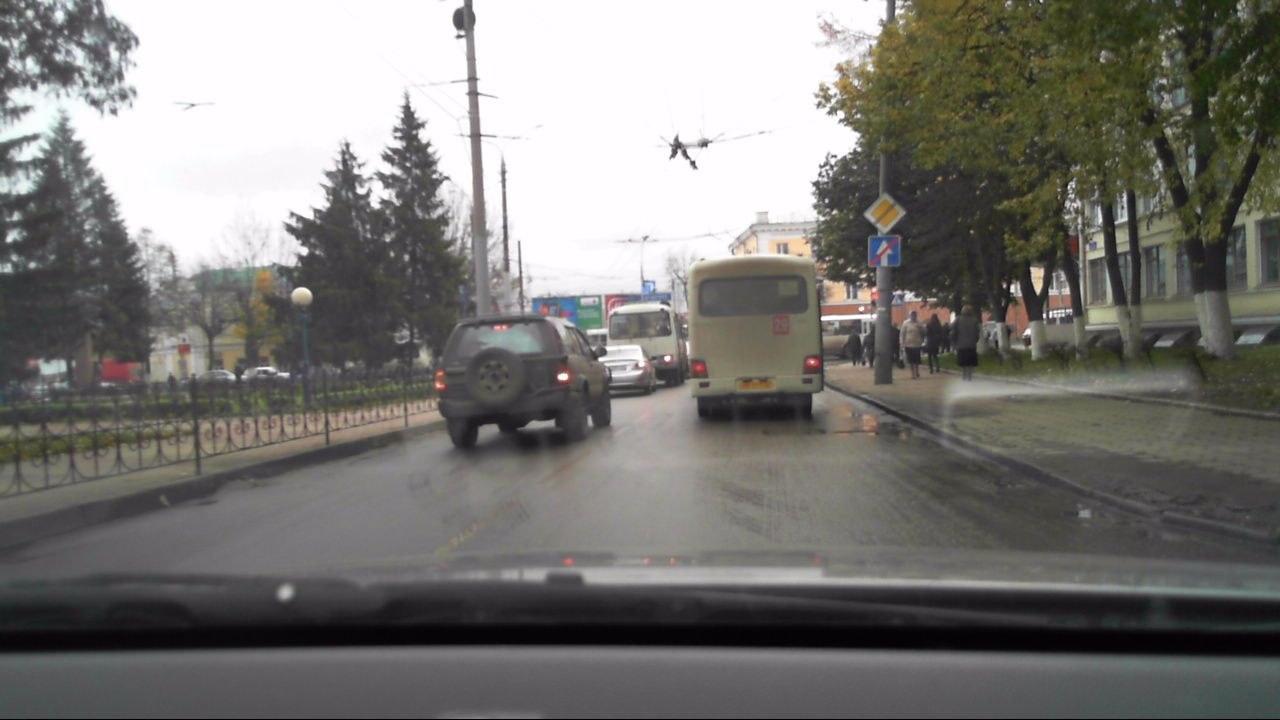main road: (861, 192, 905, 231)
